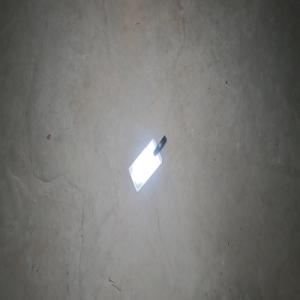LuggageTag: (127, 134, 166, 192)
